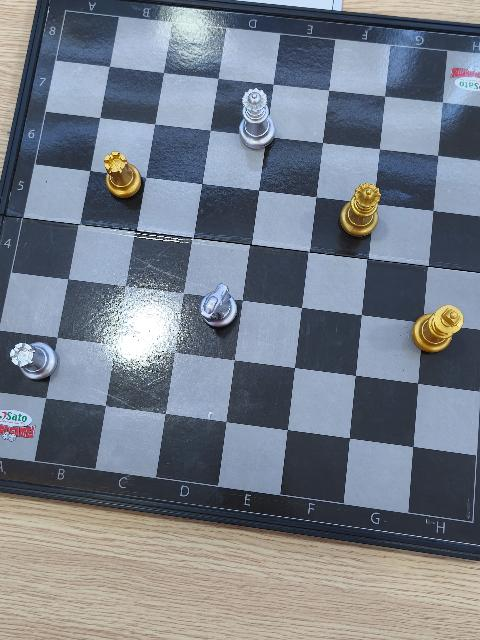black_king: (413, 306, 465, 353)
black_queen: (340, 183, 382, 240)
black_rook: (102, 151, 143, 201)
white_knight: (199, 284, 239, 329)
white_queen: (239, 87, 276, 150)
white_rook: (10, 339, 59, 383)
